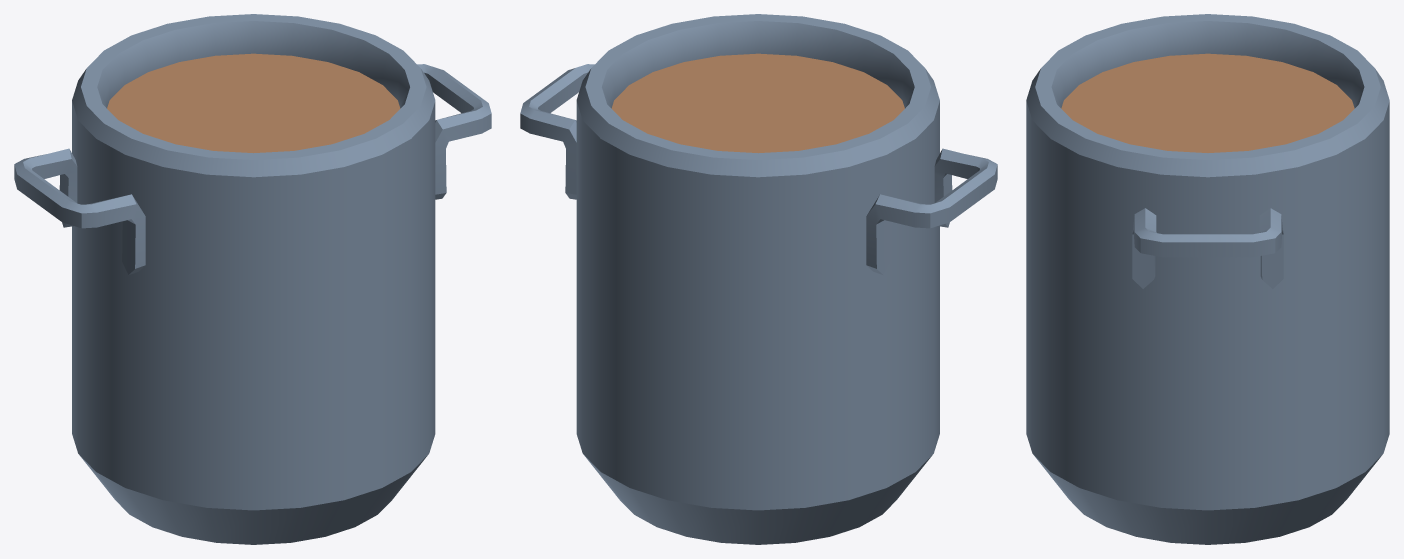
The model's file is Pot_2_Filled.fbx.
The picture shows the model from 3 angles, left to right: view 1: azimuth 30°, elevation 25°; view 2: azimuth 150°, elevation 25°; view 3: azimuth 270°, elevation 25°; orthographic projection.
Visible parts, largest first — view 1: Pot_2_Filled; view 2: Pot_2_Filled; view 3: Pot_2_Filled.
Part boxes in pixels (x1,y1,x2,y2): Pot_2_Filled: [14, 14, 491, 544]; Pot_2_Filled: [520, 14, 997, 544]; Pot_2_Filled: [1026, 14, 1389, 544].
Bounding box in the file's own units: 140 × 125 × 104.
